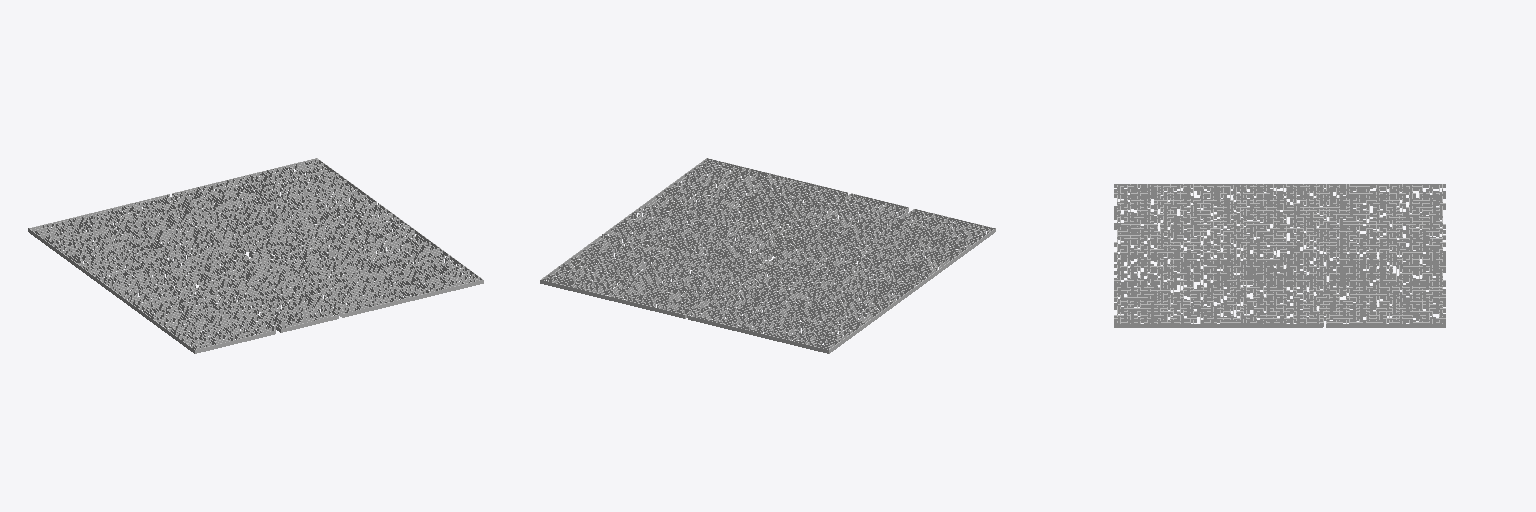
File: LaberintoDificil.obj
The picture shows the model from 3 angles: view 1: azimuth 30°, elevation 25°; view 2: azimuth 150°, elevation 25°; view 3: azimuth 270°, elevation 25°; orthographic projection.
Parts seen in each view (by area): view 1: Curve_821; view 2: Curve_821; view 3: Curve_821.
Part boxes in pixels (bbox=[...]): Curve_821: bbox=[28, 158, 483, 353]; Curve_821: bbox=[540, 158, 995, 353]; Curve_821: bbox=[1114, 184, 1445, 327].
Size of the model in its own units: 14.69 by 0.1965 by 14.65.